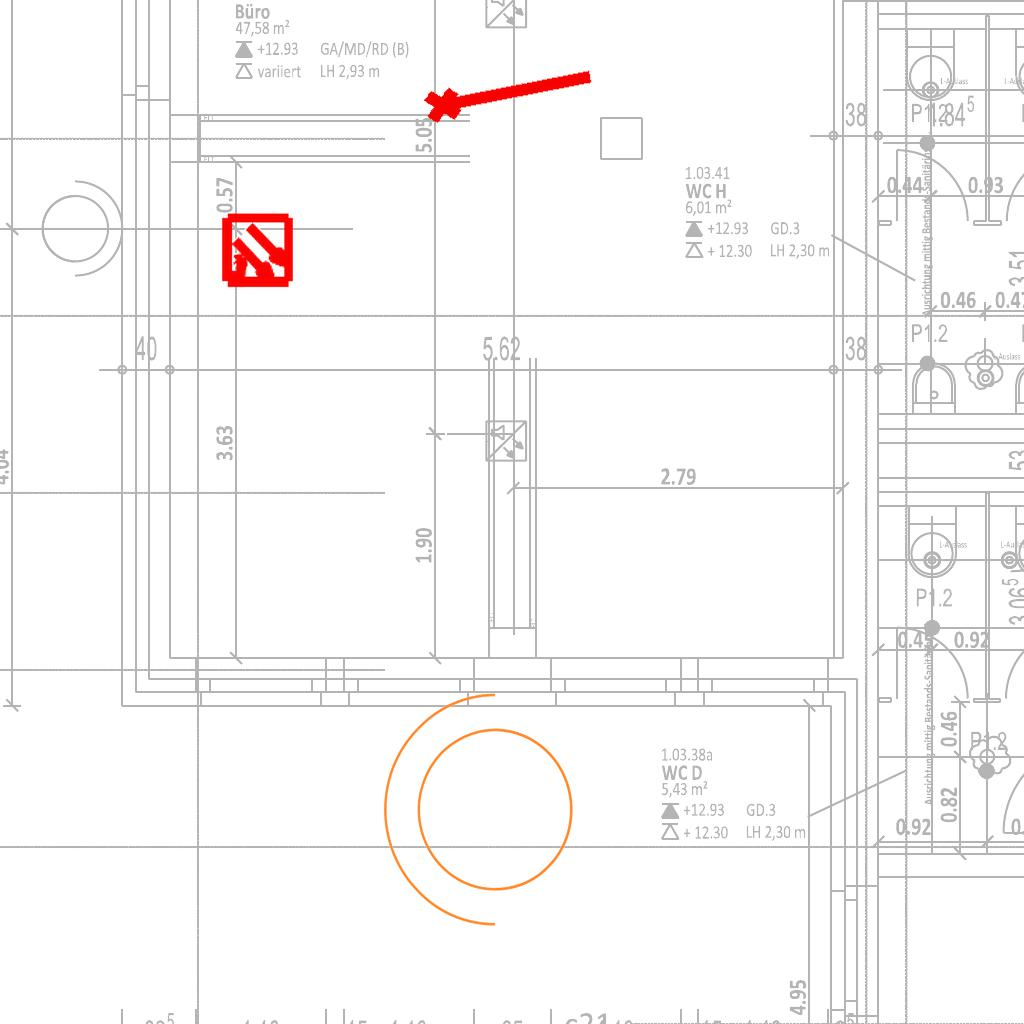ASR_Ansaugoeffnung: (418, 50, 600, 130)
OT_Multisensormelder_(Kombination_RMO_WMD): (201, 196, 314, 309)
Scheinwerfer_fuer_Alarmbeleuchtung: (373, 684, 598, 948)
